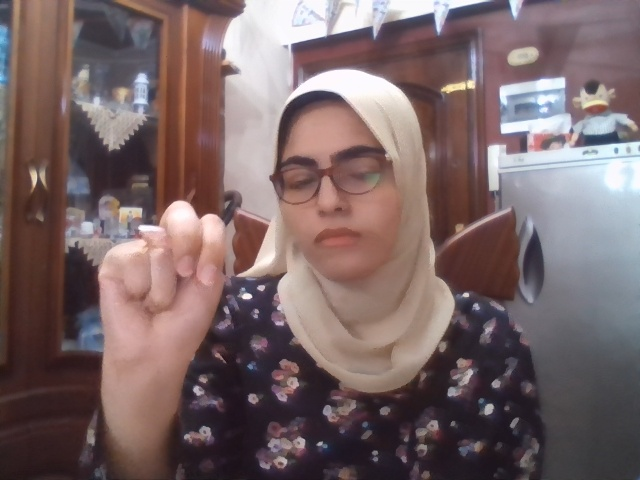N: (99, 200, 226, 371)
